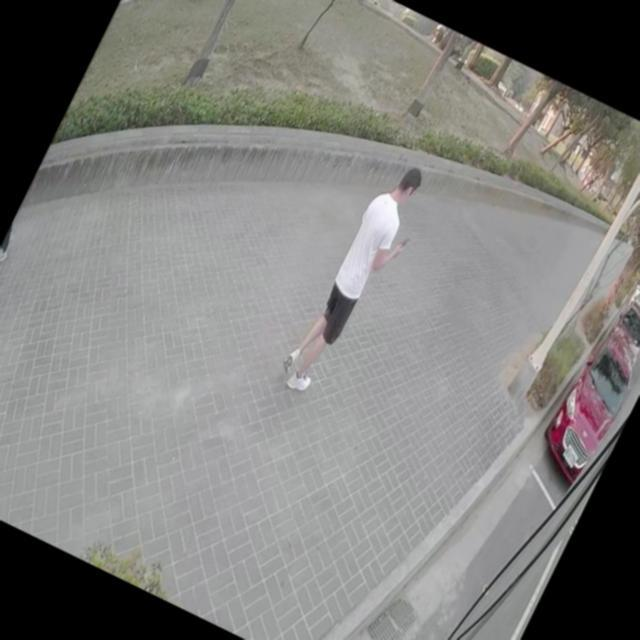person: (274, 154, 436, 404)
